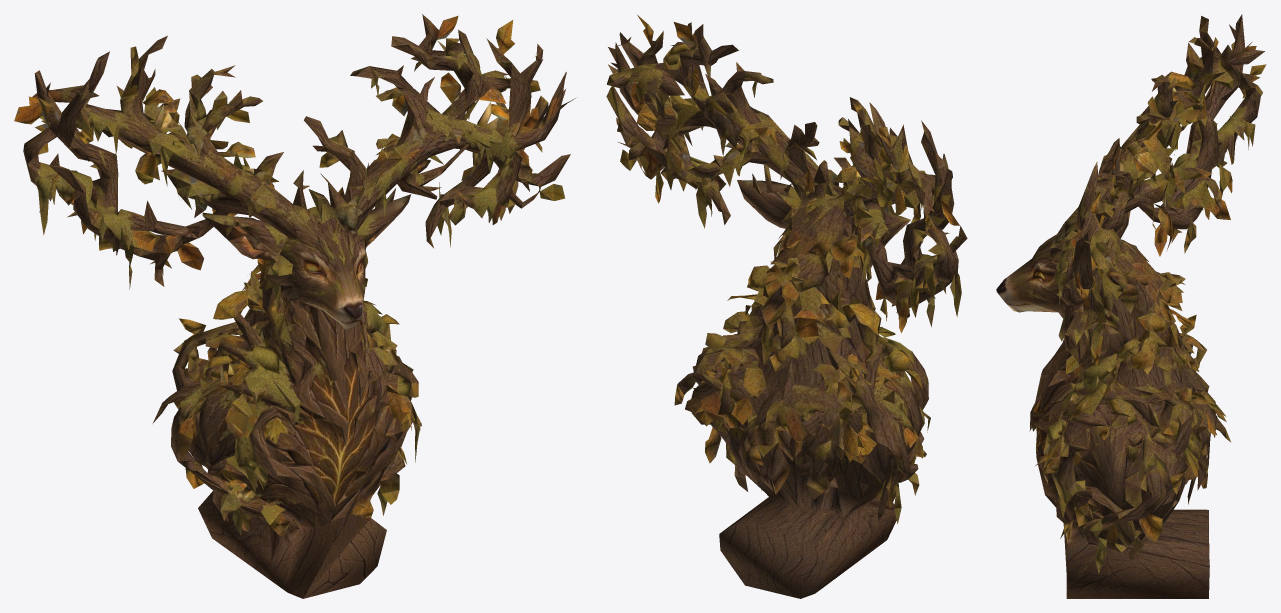
Rendered from named-gladehart.glb.
The picture shows the model from 3 angles, left to right: view 1: azimuth 30°, elevation 25°; view 2: azimuth 150°, elevation 25°; view 3: azimuth 270°, elevation 25°; orthographic projection. The views are drawn at different scales.
Bounding box in the file's own units: 1.84 × 2 × 0.9716.
1 material, 1 textured.
